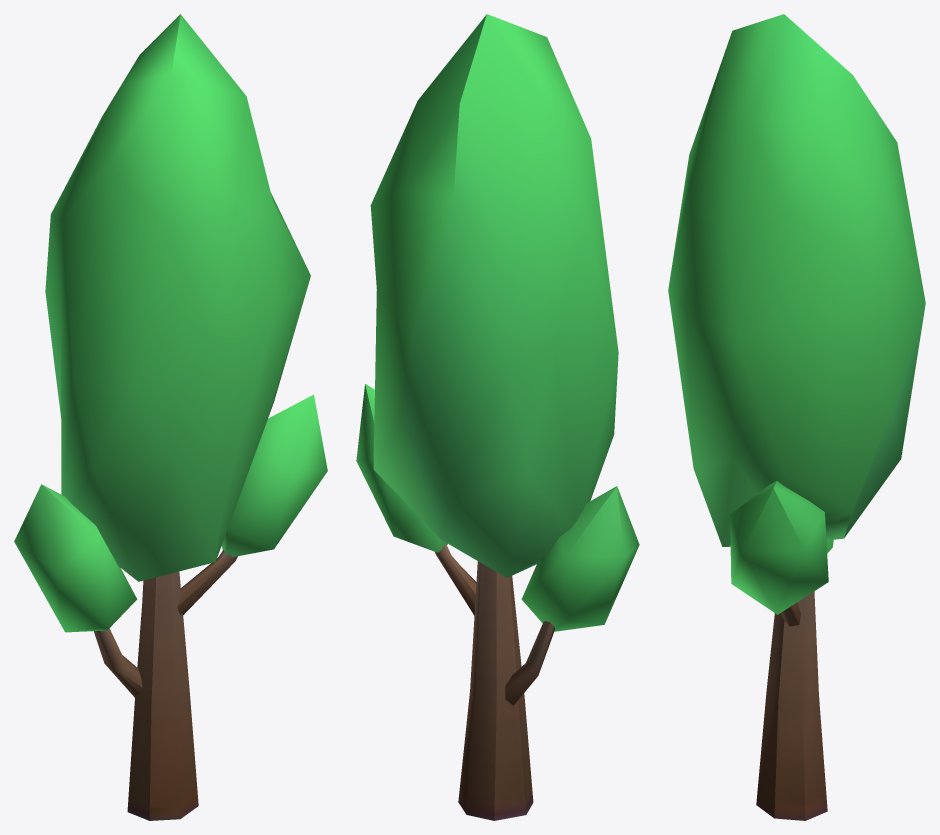
File: tree3.fbx
3 views of the same model, side by side, from view 1: azimuth 30°, elevation 25°; view 2: azimuth 150°, elevation 25°; view 3: azimuth 270°, elevation 25° (orthographic).
Visible parts, largest first — view 1: tree3; view 2: tree3; view 3: tree3.
Part boxes in pixels (box(x1,y1,x2,y2)): tree3: box(14, 14, 327, 820); tree3: box(356, 14, 639, 820); tree3: box(668, 14, 925, 820).
Bounding box in the file's own units: 97.43 × 263 × 76.89.
